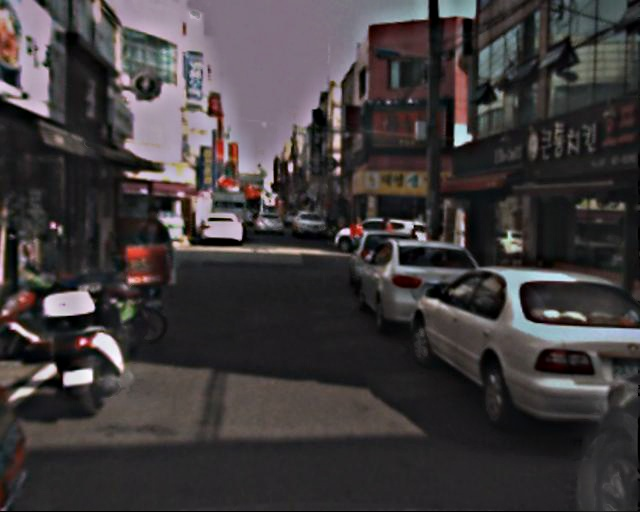person: (132, 210, 178, 310), (377, 217, 396, 264), (348, 217, 366, 261)
